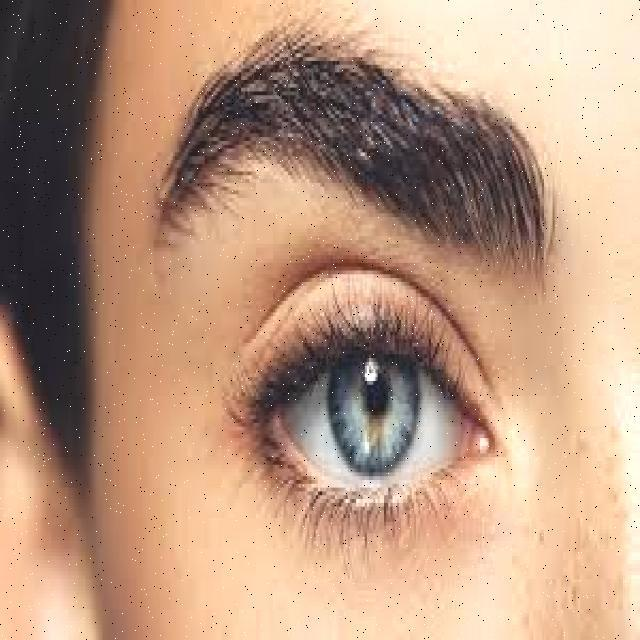Normal: (156, 233, 565, 582)
